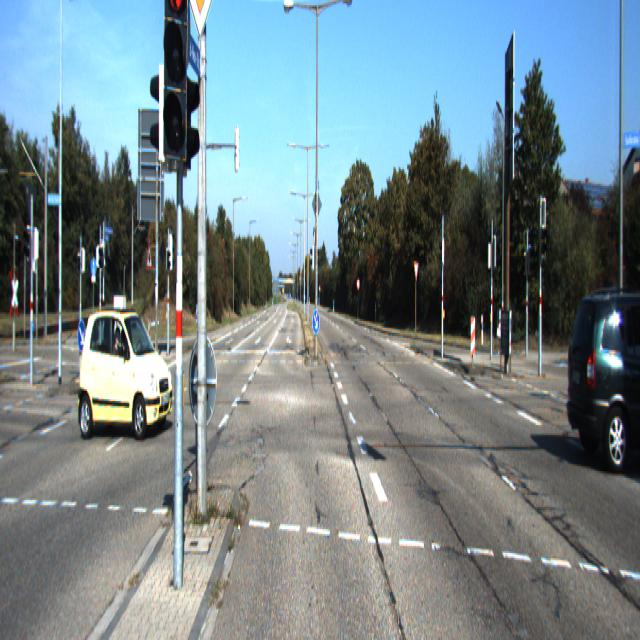Car: (561, 280, 640, 478), (75, 303, 176, 438)
